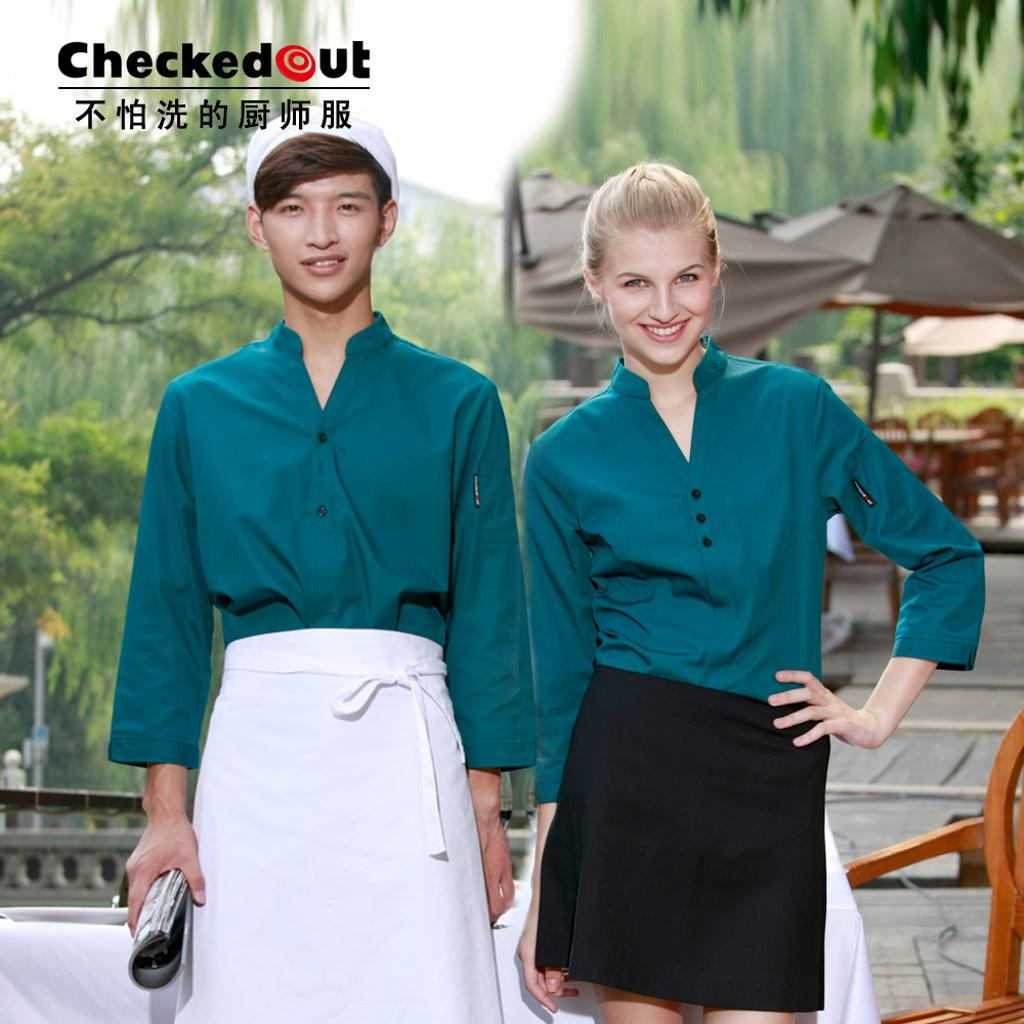face: (598, 222, 714, 368), (262, 164, 384, 302)
